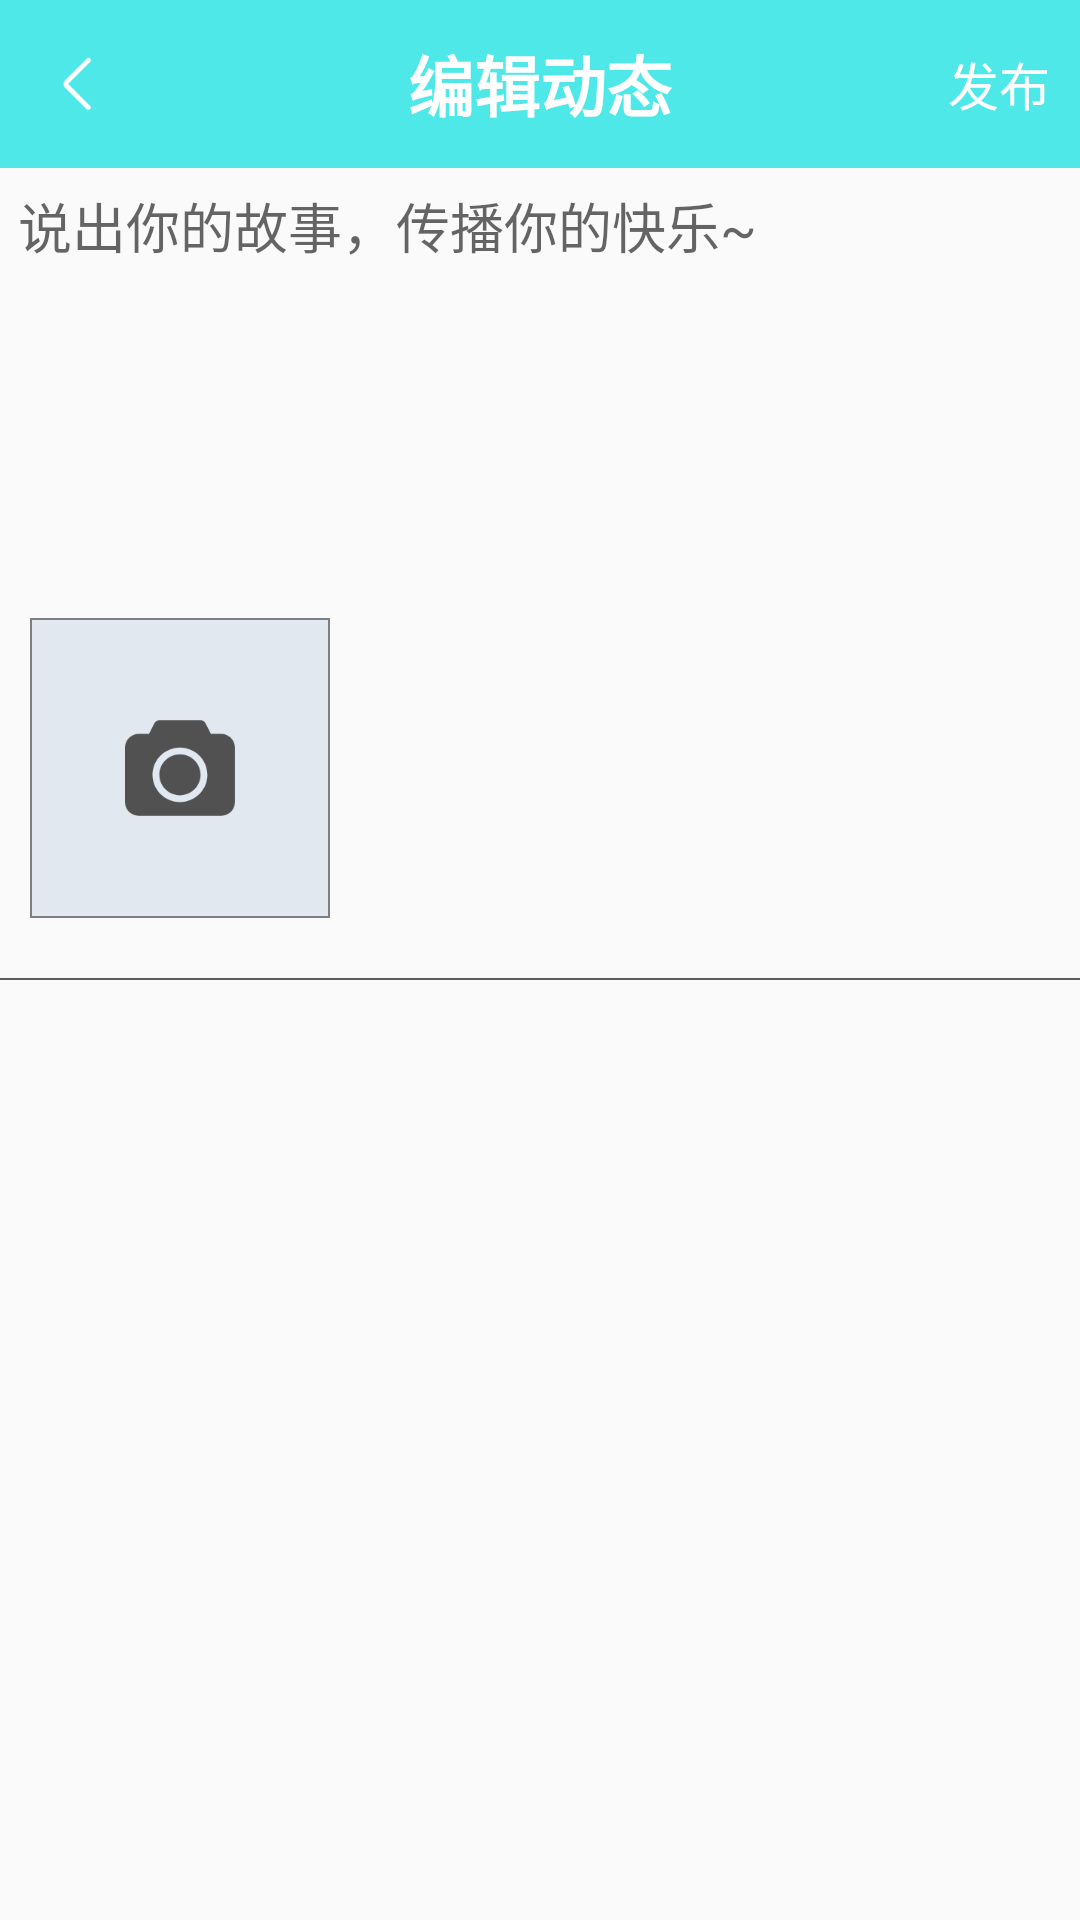

Where to tap for icons on this 1080*1920 app screen, as point (x, y):
editback: point (77, 84)
